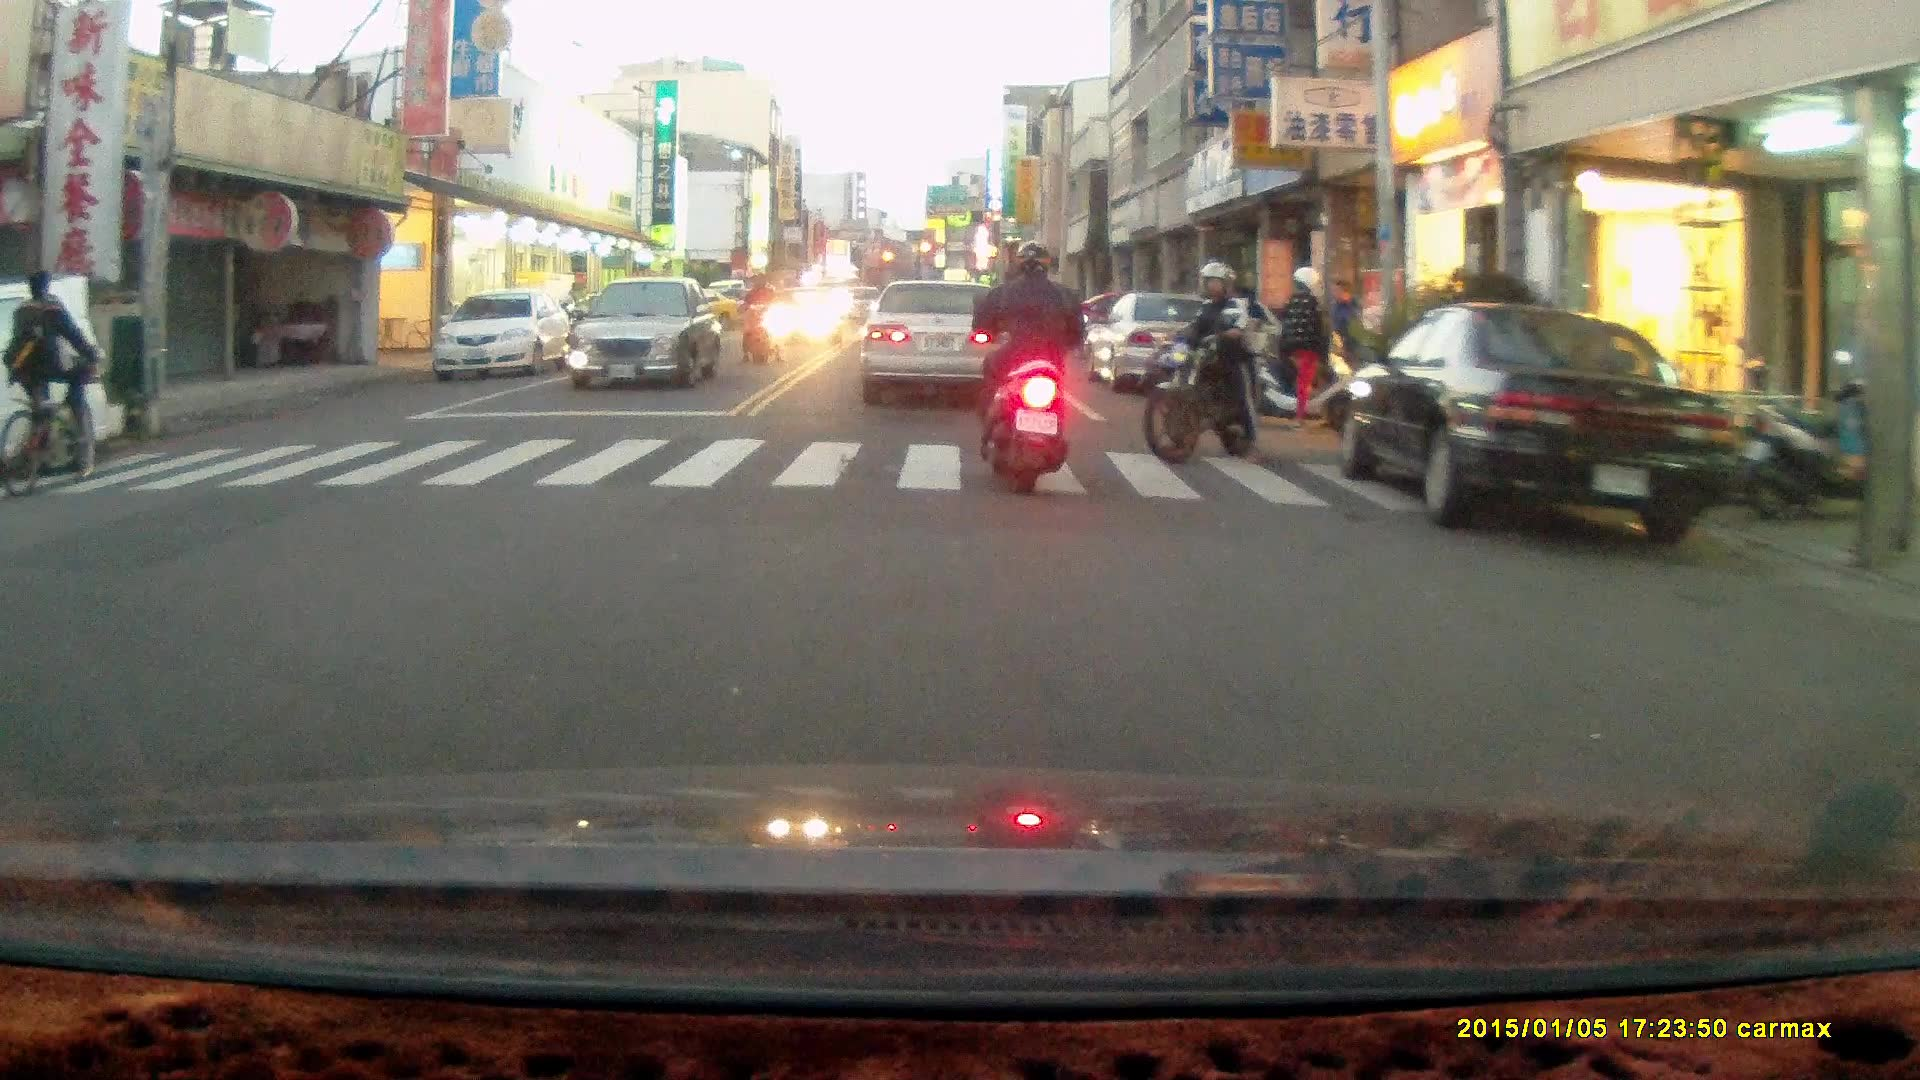pedestrian: (1281, 264, 1327, 433), (1327, 279, 1367, 397)
rider: (1139, 259, 1292, 461), (972, 241, 1092, 497), (3, 269, 96, 499), (734, 273, 780, 363)
vehicle: (1343, 305, 1743, 548), (1, 272, 123, 464), (856, 279, 1010, 407), (569, 278, 727, 396), (1083, 292, 1252, 395), (431, 289, 571, 382)
